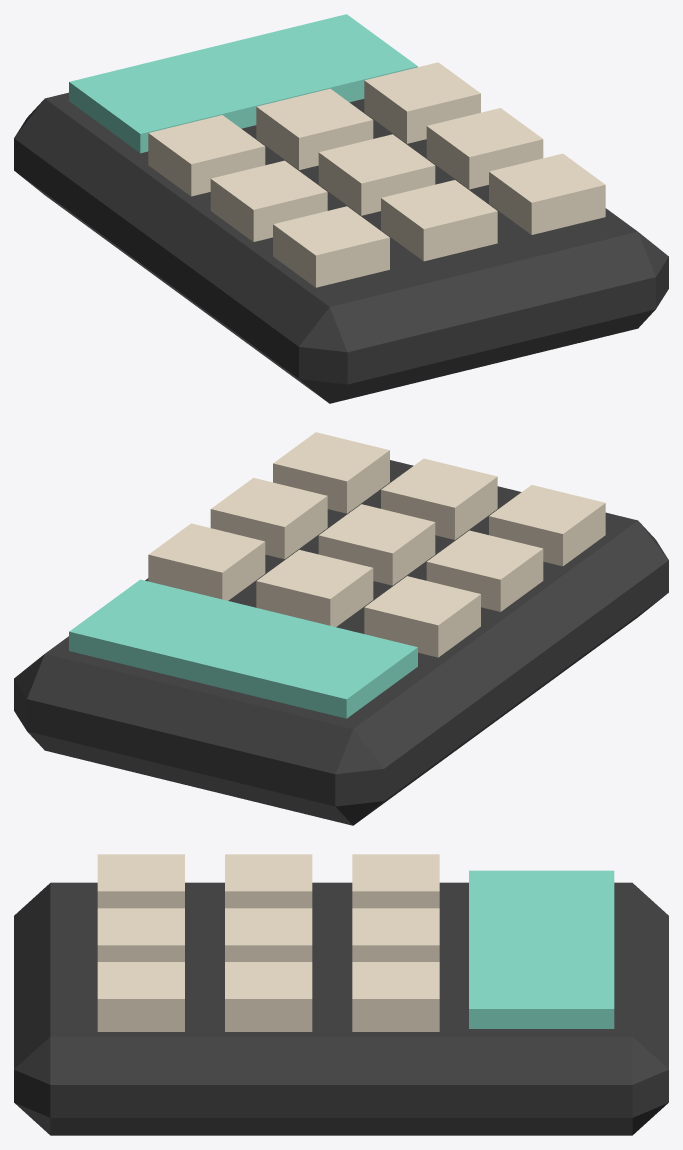
The picture shows the model from 3 angles, top to bottom: view 1: azimuth 30°, elevation 25°; view 2: azimuth 150°, elevation 25°; view 3: azimuth 270°, elevation 25°; orthographic projection. The views are drawn at different scales.
Visible parts, largest first — view 1: Calculator, Readout, Key, Key.003, Key.006, Key.004, Key.001, Key.005, Key.002, Key.007, Key.008; view 2: Calculator, Readout, Key.002, Key.008, Key.005, Key.004, Key.001, Key.007, Key.003, Key.006, Key; view 3: Calculator, Readout, Key.006, Key.007, Key.008, Key.002, Key, Key.001, Key.003, Key.004, Key.005.
Boxes of the visible parts, x1,y1,x2,y2 form: Calculator: (14,92,668,403); Readout: (69,14,417,153); Key: (273,206,389,287); Key.003: (381,180,497,261); Key.006: (489,153,605,234); Key.004: (318,134,435,215); Key.001: (210,160,327,241); Key.005: (256,88,373,169); Key.002: (148,115,265,196); Key.007: (426,108,543,189); Key.008: (364,62,480,143); Calculator: (14,460,668,825); Readout: (69,579,417,718); Key.002: (364,576,480,657); Key.008: (148,523,265,600); Key.005: (256,549,373,626); Key.004: (318,504,435,585); Key.001: (426,530,543,611); Key.007: (210,478,327,559); Key.003: (381,458,497,539); Key.006: (273,432,389,513); Key: (489,485,605,566); Calculator: (14,882,668,1135); Readout: (469,870,614,1028); Key.006: (97,962,184,1031); Key.007: (225,962,312,1031); Key.008: (352,962,439,1031); Key.002: (352,854,439,908); Key: (97,854,184,908); Key.001: (225,854,312,908); Key.003: (97,908,184,961); Key.004: (225,908,312,961); Key.005: (352,908,439,961).
Bounding box in the file's own units: 0.12 × 0.04 × 0.18.
1 material, 1 textured.
